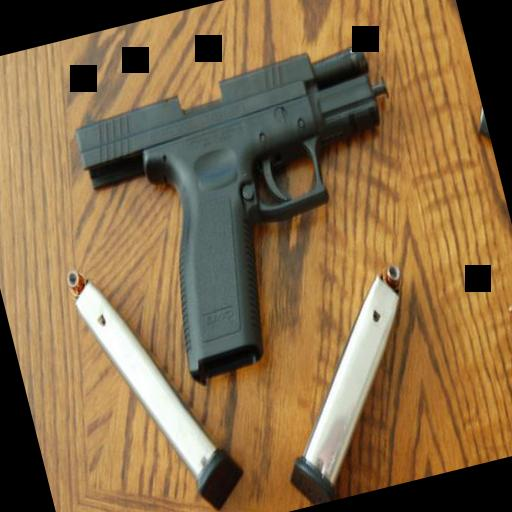Handgun: (64, 34, 448, 402)
